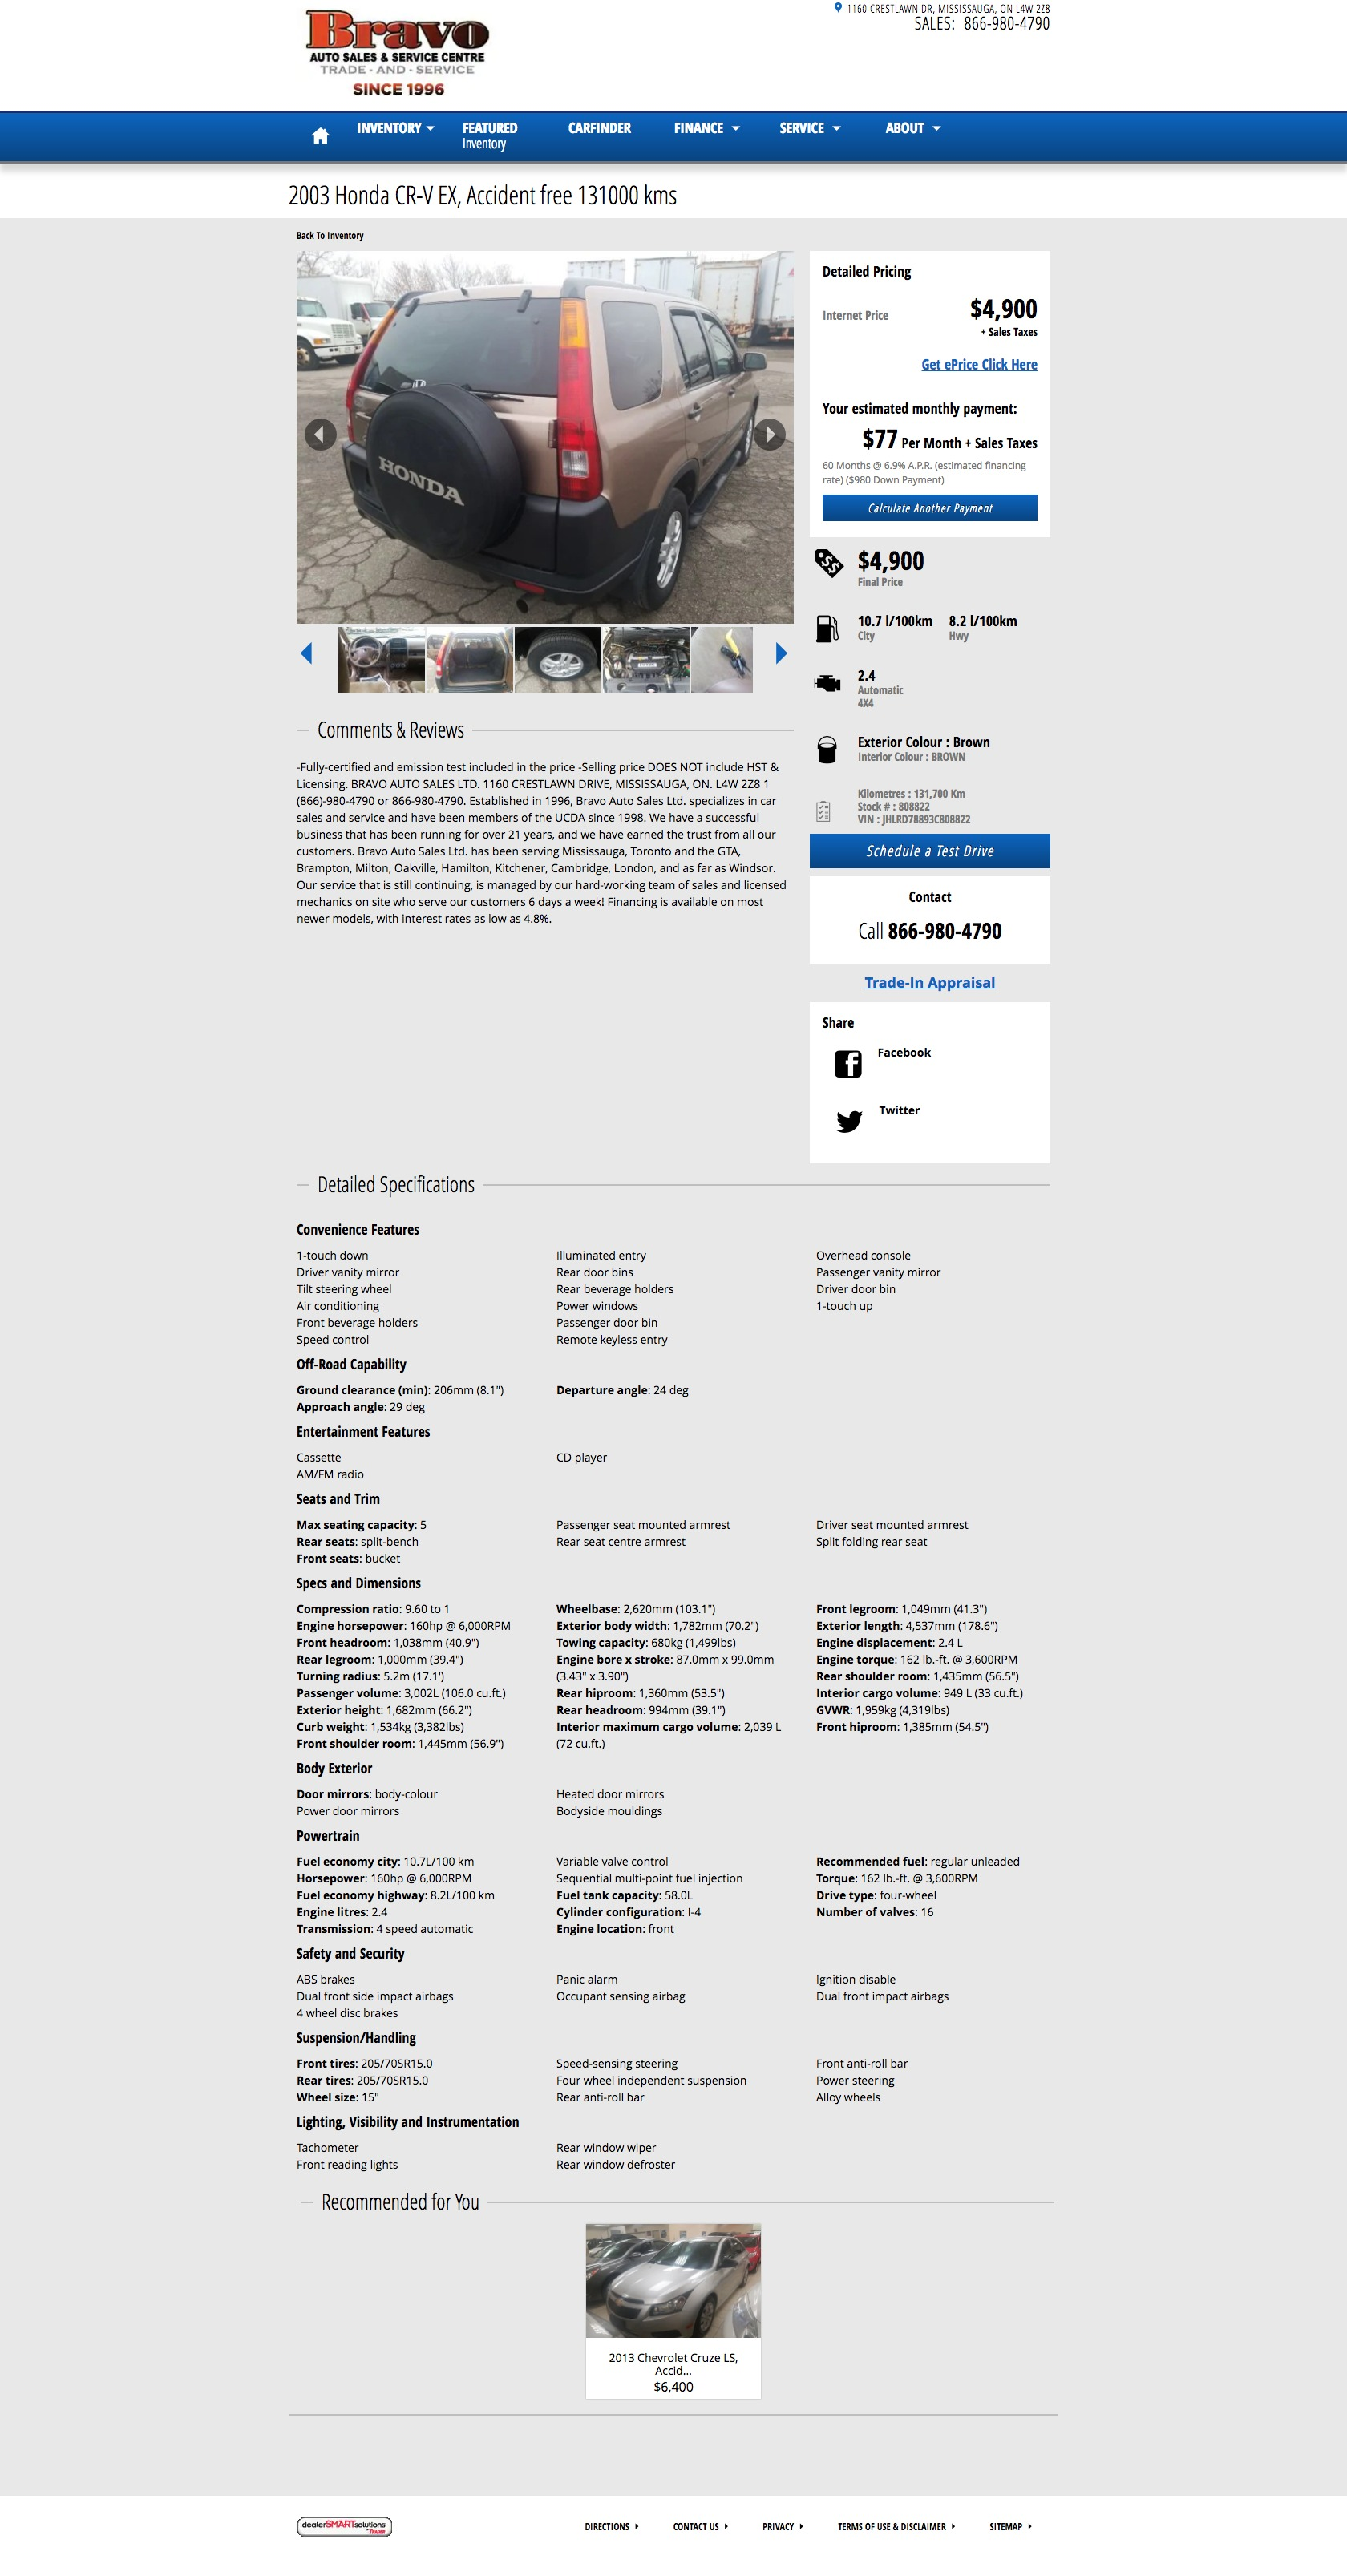car: (775, 642, 788, 666)
